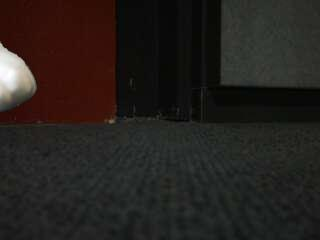Garlic: (0, 42, 38, 115)
